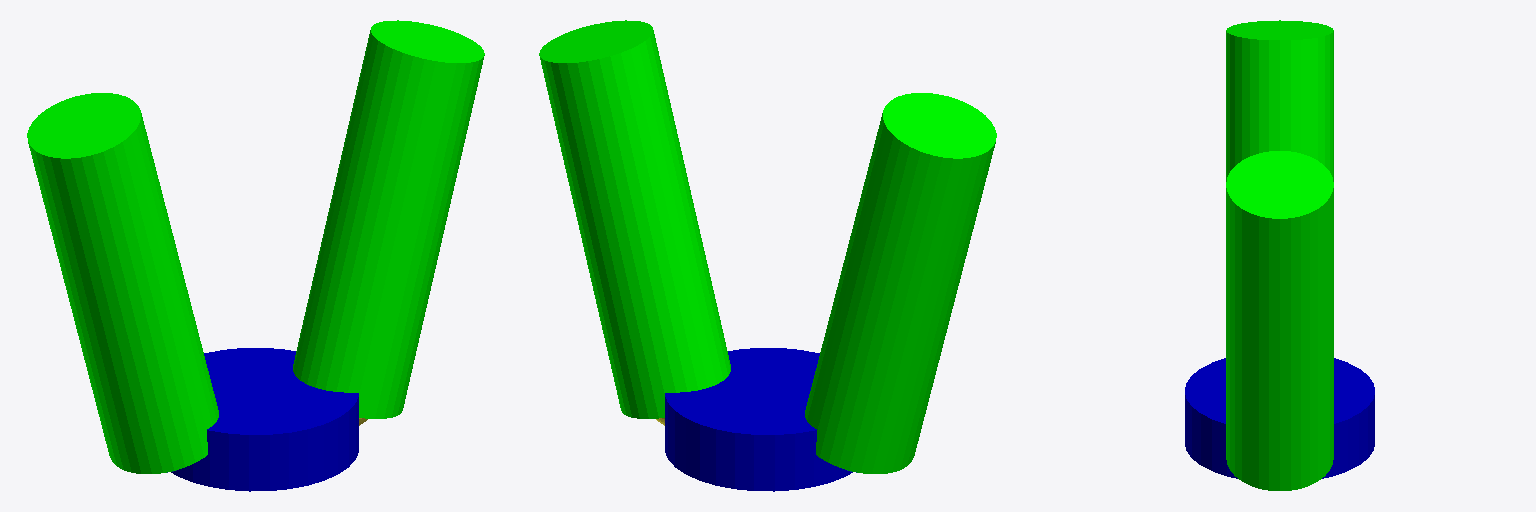
The robot description file, URDF, robot "gripper_2f_1j":
<?xml version='1.0' encoding='UTF-8'?>
<robot name="gripper_2f_1j">
  <link name="palm">
    <inertial>
      <origin xyz="0.0 0.0 0.0" rpy="0.0 -0.0 0.0"/>
      <mass value="1.0"/>
      <inertia ixx="1.0" ixy="0.0" ixz="0.0" iyy="1.0" iyz="0.0" izz="1.0"/>
    </inertial>
    <visual>
      <geometry>
        <cylinder radius="0.05" length="0.03"/>
      </geometry>
      <material name="blue"/>
      <origin xyz="0.0 0.0 0.0" rpy="0.0 -0.0 0.0"/>
    </visual>
    <collision>
      <geometry>
        <cylinder radius="0.05" length="0.03"/>
      </geometry>
      <origin xyz="0.0 0.0 0.0" rpy="0.0 0.0 0.0"/>
    </collision>
  </link>
  <link name="f11">
    <inertial>
      <origin xyz="0.0 0.0 0.0" rpy="0.0 -0.0 0.0"/>
      <mass value="1.0"/>
      <inertia ixx="1.0" ixy="0.0" ixz="0.0" iyy="1.0" iyz="0.0" izz="1.0"/>
    </inertial>
    <visual>
      <geometry>
        <cylinder radius="0.02823593084359403" length="0.18446123552582624"/>
      </geometry>
      <material name="green"/>
      <origin xyz="0.0 0.0 0.09223061776291312" rpy="0.0 -0.0 0.0"/>
    </visual>
    <collision>
      <geometry>
        <cylinder radius="0.02823593084359403" length="0.18446123552582624"/>
      </geometry>
      <origin xyz="0.0 0.0 0.05" rpy="0.0 0.0 0.0"/>
    </collision>
  </link>
  <link name="f21">
    <inertial>
      <origin xyz="0.0 0.0 0.0" rpy="0.0 -0.0 0.0"/>
      <mass value="1.0"/>
      <inertia ixx="1.0" ixy="0.0" ixz="0.0" iyy="1.0" iyz="0.0" izz="1.0"/>
    </inertial>
    <visual>
      <geometry>
        <cylinder radius="0.02823593084359403" length="0.18446123552582624"/>
      </geometry>
      <material name="green"/>
      <origin xyz="0.0 0.0 0.09223061776291312" rpy="0.0 -0.0 0.0"/>
    </visual>
    <collision>
      <geometry>
        <cylinder radius="0.02823593084359403" length="0.18446123552582624"/>
      </geometry>
      <origin xyz="0.0 0.0 0.05" rpy="0.0 0.0 0.0"/>
    </collision>
  </link>
  <link name="f11_base">
    <inertial>
      <origin xyz="0.0 0.0 0.0" rpy="0.0 -0.0 0.0"/>
      <mass value="1.0"/>
      <inertia ixx="1.0" ixy="0.0" ixz="0.0" iyy="1.0" iyz="0.0" izz="1.0"/>
    </inertial>
    <visual>
      <geometry>
        <sphere radius="0.015"/>
      </geometry>
      <origin xyz="0.0 0.0 0.0" rpy="0.0 -0.0 0.0"/>
    </visual>
  </link>
  <link name="f21_base">
    <inertial>
      <origin xyz="0.0 0.0 0.0" rpy="0.0 -0.0 0.0"/>
      <mass value="1.0"/>
      <inertia ixx="1.0" ixy="0.0" ixz="0.0" iyy="1.0" iyz="0.0" izz="1.0"/>
    </inertial>
    <visual>
      <geometry>
        <sphere radius="0.015"/>
      </geometry>
      <origin xyz="0.0 0.0 0.0" rpy="0.0 -0.0 0.0"/>
    </visual>
  </link>
  <joint name="f11_joint" type="revolute">
    <dynamics damping="100.0" friction="1.0"/>
    <limit effort="30.0" velocity="2.0" lower="-0.6" upper="0.25"/>
    <parent link="f11_base"/>
    <child link="f11"/>
    <axis xyz="0. 1. 0."/>
    <origin xyz="0.0 0.0 0.0" rpy="0.0 0.25 0.0"/>
  </joint>
  <joint name="f21_joint" type="revolute">
    <dynamics damping="100.0" friction="1.0"/>
    <limit effort="30.0" velocity="2.0" lower="-0.6" upper="0.25"/>
    <parent link="f21_base"/>
    <child link="f21"/>
    <axis xyz=" 0. -1.  0."/>
    <origin xyz="0.0 0.0 0.0" rpy="0.0 -0.25 0.0"/>
  </joint>
  <joint name="f11_base_joint" type="fixed">
    <parent link="palm"/>
    <child link="f11_base"/>
    <axis xyz="1. 0. 0."/>
    <origin xyz="0.05 0.0 0.0" rpy="0.0 0.0 0.0"/>
  </joint>
  <joint name="f21_base_joint" type="fixed">
    <parent link="palm"/>
    <child link="f21_base"/>
    <axis xyz="1. 0. 0."/>
    <origin xyz="-0.05 -0.0 0.0" rpy="0.0 0.0 0.0"/>
  </joint>
  <material name="blue">
    <color rgba="0.  0.  0.8 1. "/>
  </material>
  <material name="green">
    <color rgba="0. 1. 0. 1."/>
  </material>
</robot>

--- Render facts (derived) ---
The picture shows the robot from 3 angles, left to right: view 1: azimuth 30°, elevation 25°; view 2: azimuth 150°, elevation 25°; view 3: azimuth 270°, elevation 25°; orthographic projection.
Robot: gripper_2f_1j — 5 links, 4 joints (2 revolute, 2 fixed); root link palm; default pose: all joints at 0.
Links seen in each view (by area): view 1: f11, f21, palm; view 2: f11, f21, palm; view 3: f11, f21, palm.
Link boxes in pixels (x1,y1,x2,y2): f11: (293,20,484,418); f21: (27,93,218,473); palm: (171,348,358,491); f11: (539,20,730,418); f21: (805,93,996,473); palm: (665,348,852,491); f11: (1226,151,1333,490); f21: (1226,20,1333,181); palm: (1185,358,1374,478).
Bounding box of the posed robot: 0.246 × 0.1 × 0.2007 m (x, y, z).
Geometry: primitives only (box / cylinder / sphere), no mesh files.